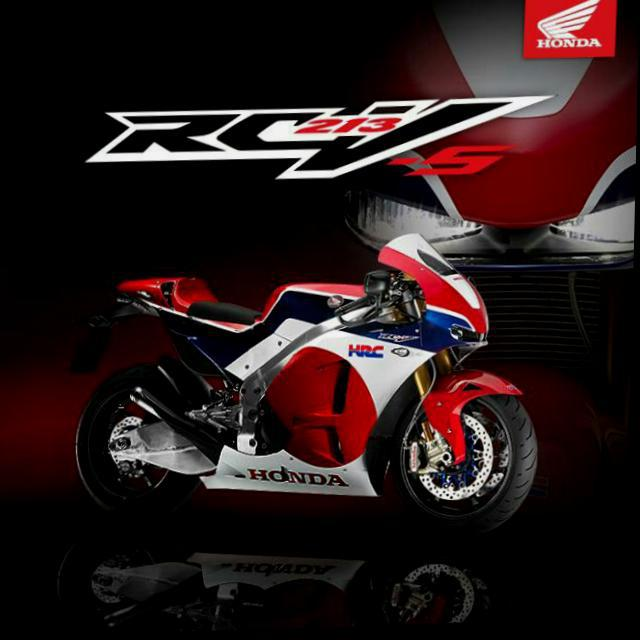HRC RCV 213: (70, 227, 546, 550)
